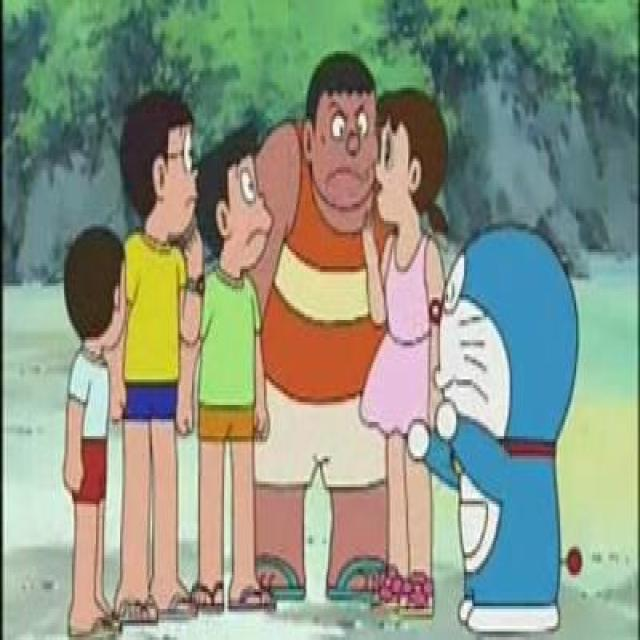doraemon: (429, 218, 579, 456)
jaian: (301, 48, 379, 218)
nobita: (118, 88, 197, 246)
shizuka: (373, 79, 453, 235)
suneo: (196, 122, 274, 272)
